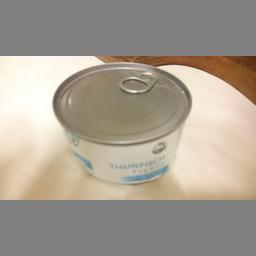fish: (50, 61, 191, 184)
